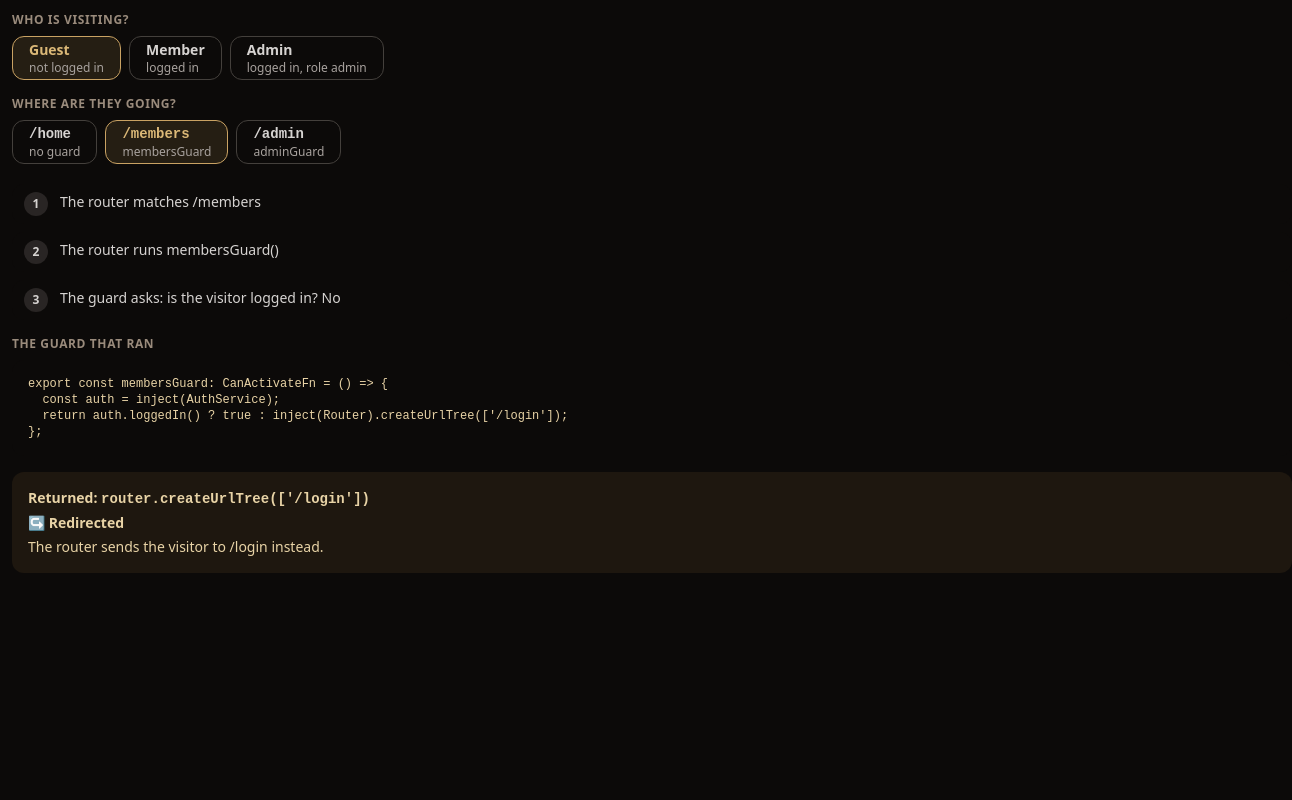
Scenario: GuardGateDemoComponent › shows the code of the guard that ran for the chosen page
The width and height of the screenshot is (1292, 800).
Click the button "/admin adminGuard" at (289, 142), box [236, 120, 341, 164]
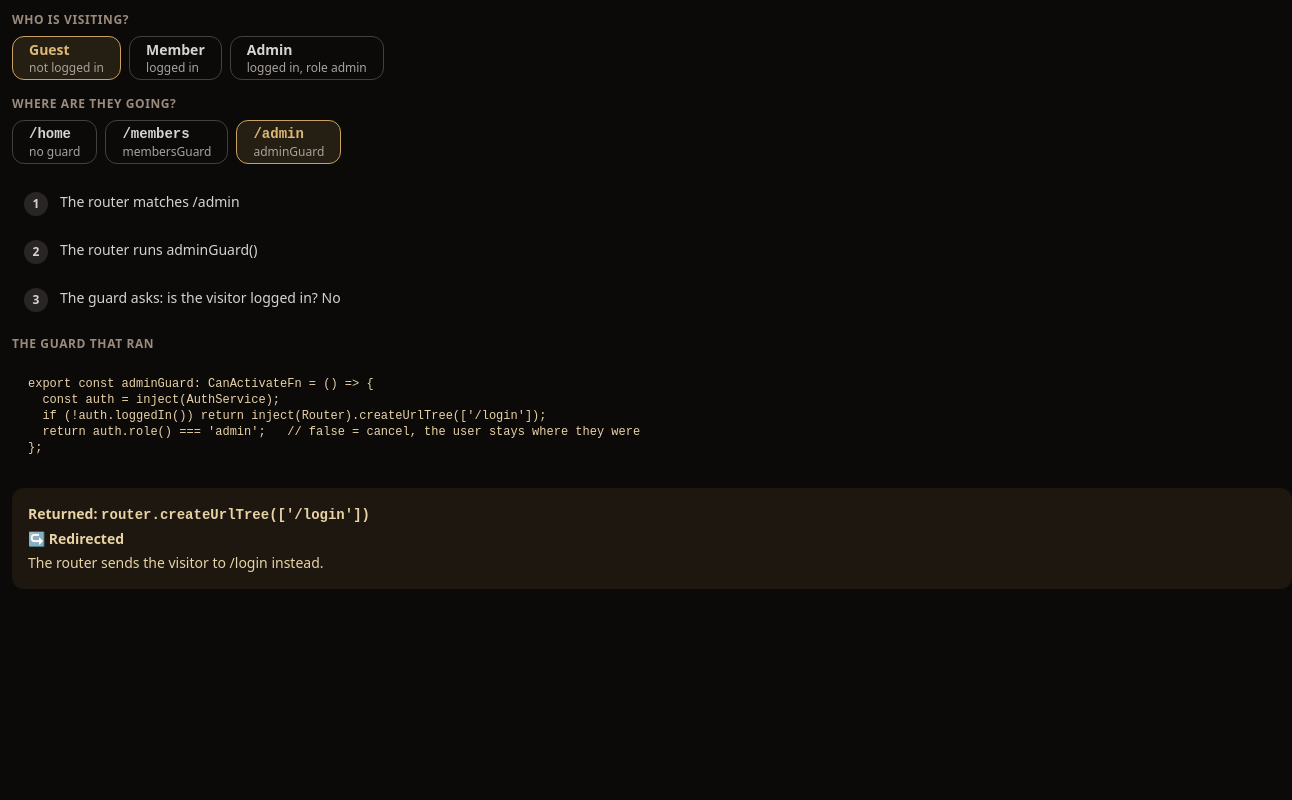
Result: the text "adminGuard" is shown at [28, 377, 640, 455]
